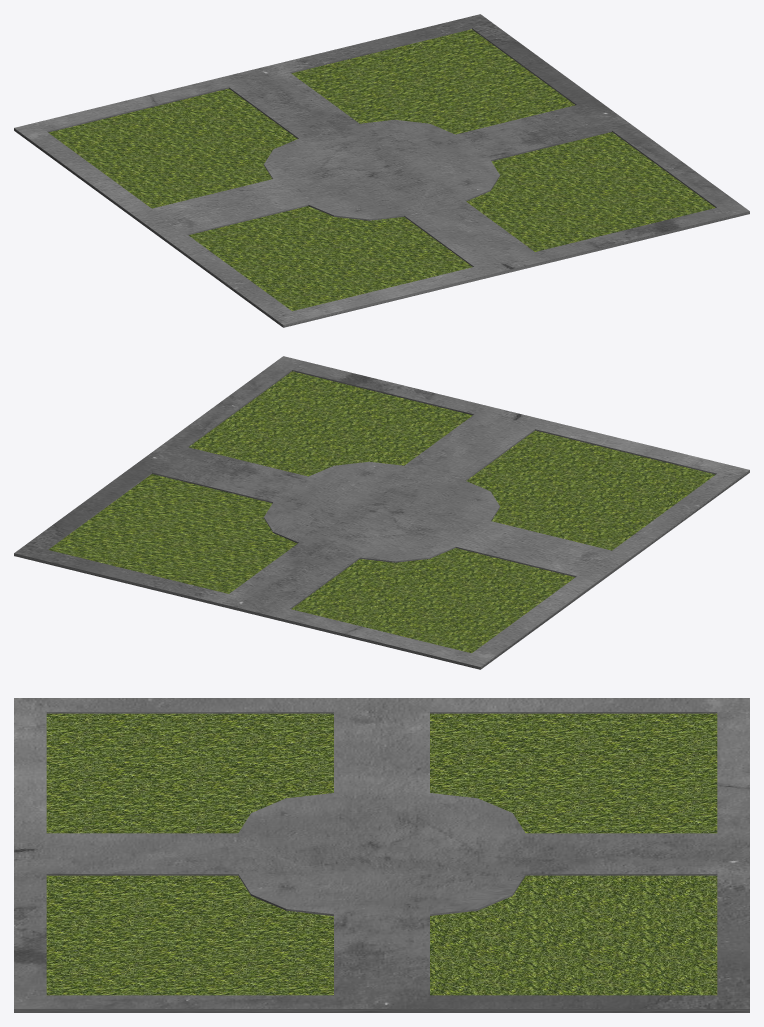
Rendered from PARK_02.fbx.
The picture shows the model from 3 angles, top to bottom: view 1: azimuth 30°, elevation 25°; view 2: azimuth 150°, elevation 25°; view 3: azimuth 270°, elevation 25°; orthographic projection. The views are drawn at different scales.
Parts seen in each view (by area): view 1: PARK_02; view 2: PARK_02; view 3: PARK_02.
Boxes of the visible parts, x1,y1,x2,y2 form: PARK_02: (14, 14, 749, 327); PARK_02: (14, 356, 749, 669); PARK_02: (14, 698, 749, 1012).
Bounding box in the file's own units: 3591 × 20.33 × 3591.
